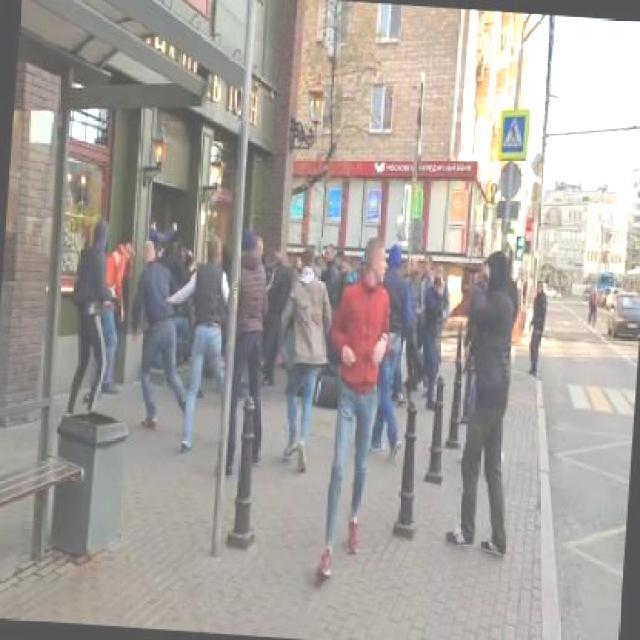non-fight: (316, 238, 395, 580), (446, 251, 525, 558)
